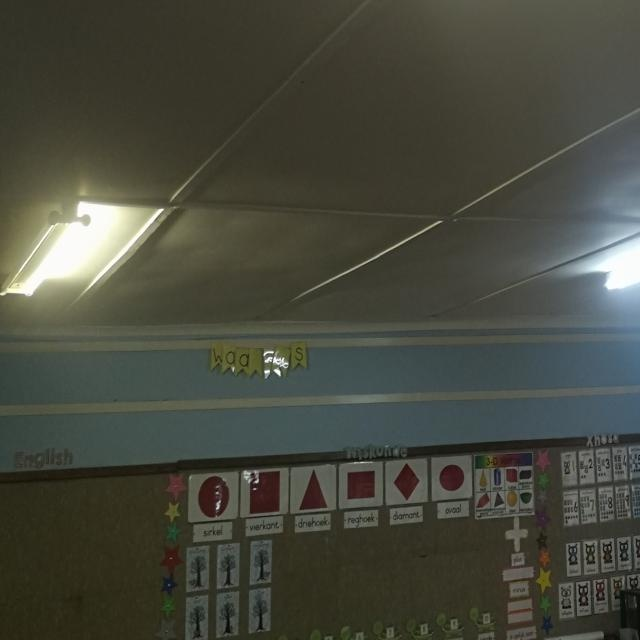fluorescent tube: (0, 183, 135, 336), (572, 203, 640, 345)
